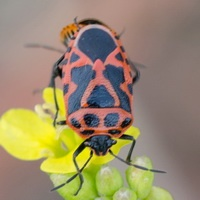insect: (35, 19, 172, 199)
